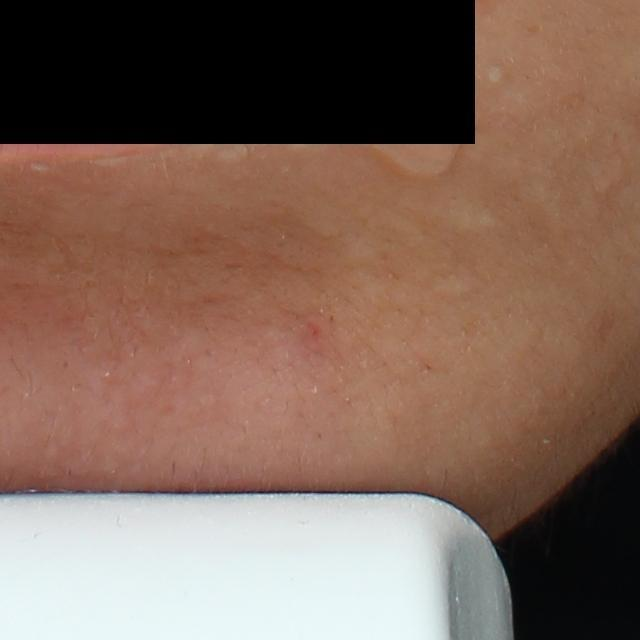comedo: (486, 62, 504, 84)
hypertrophic_scar: (432, 272, 482, 301)
